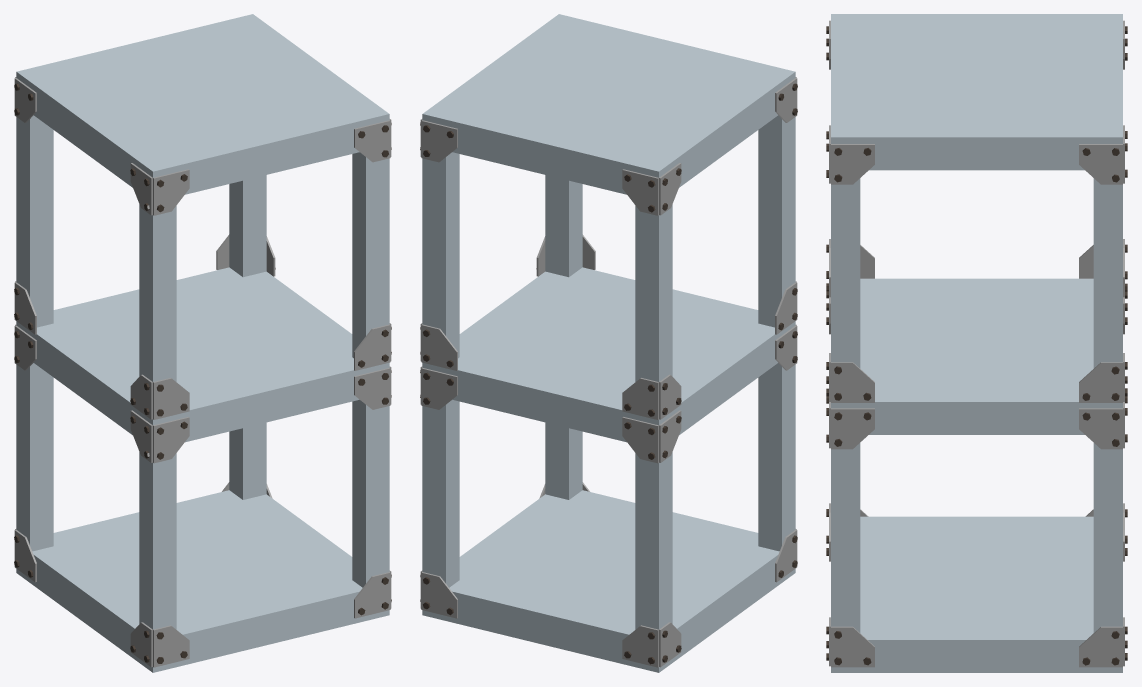
The model's file is 4_Racks_level_2.fbx.
The picture shows the model from 3 angles, left to right: view 1: azimuth 30°, elevation 25°; view 2: azimuth 150°, elevation 25°; view 3: azimuth 270°, elevation 25°; orthographic projection. The views are drawn at different scales.
Parts seen in each view (by area): view 1: 4_Racks_level_2; view 2: 4_Racks_level_2; view 3: 4_Racks_level_2.
Boxes of the visible parts, x1,y1,x2,y2 form: 4_Racks_level_2: (14, 14, 391, 672); 4_Racks_level_2: (420, 14, 797, 672); 4_Racks_level_2: (826, 14, 1127, 672).
Size of the model in its own units: 206 by 405 by 206.
